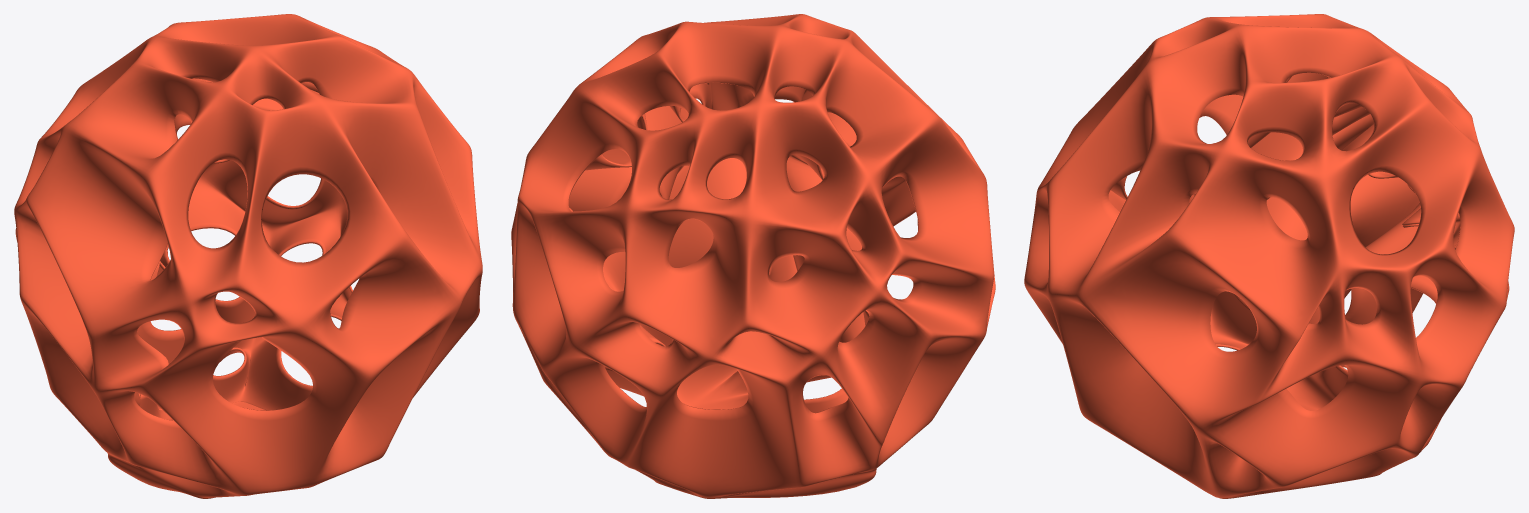
File: ESC_4.obj
3 views of the same model, side by side, from view 1: azimuth 30°, elevation 25°; view 2: azimuth 150°, elevation 25°; view 3: azimuth 270°, elevation 25° (orthographic).
Parts seen in each view (by area): view 1: ESC_4; view 2: ESC_4; view 3: ESC_4.
Boxes of the visible parts, <box> form: ESC_4: <box>14,14,482,498</box>; ESC_4: <box>511,14,995,498</box>; ESC_4: <box>1024,14,1514,498</box>.
Bounding box in the file's own units: 0.2173 × 0.2094 × 0.2195.
